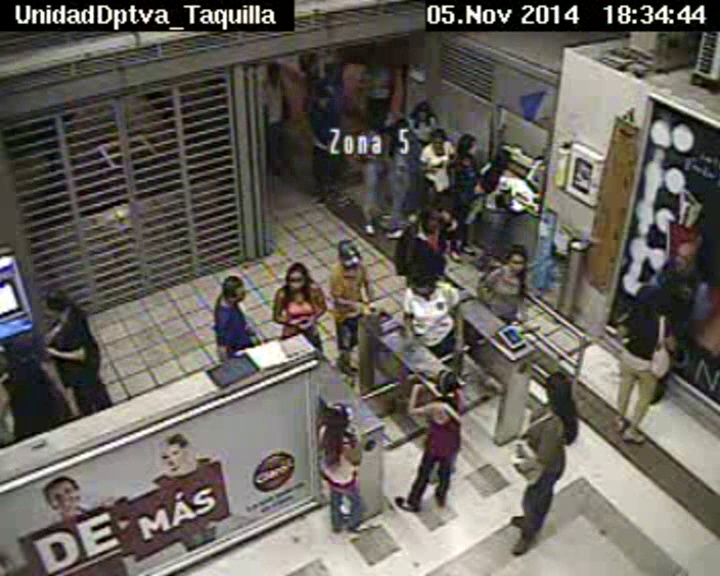person: (4, 339, 38, 374), (542, 372, 572, 405), (41, 288, 71, 321), (410, 266, 441, 297), (336, 238, 365, 269), (283, 262, 311, 292), (433, 367, 458, 395), (505, 245, 530, 273), (221, 276, 246, 303), (645, 294, 670, 320), (327, 402, 350, 429), (418, 214, 440, 240), (653, 263, 675, 286), (429, 128, 450, 152), (458, 133, 478, 157), (316, 84, 336, 108), (264, 60, 285, 81), (391, 116, 411, 138), (492, 147, 512, 168), (414, 102, 433, 124), (368, 115, 386, 135), (368, 51, 385, 69)
